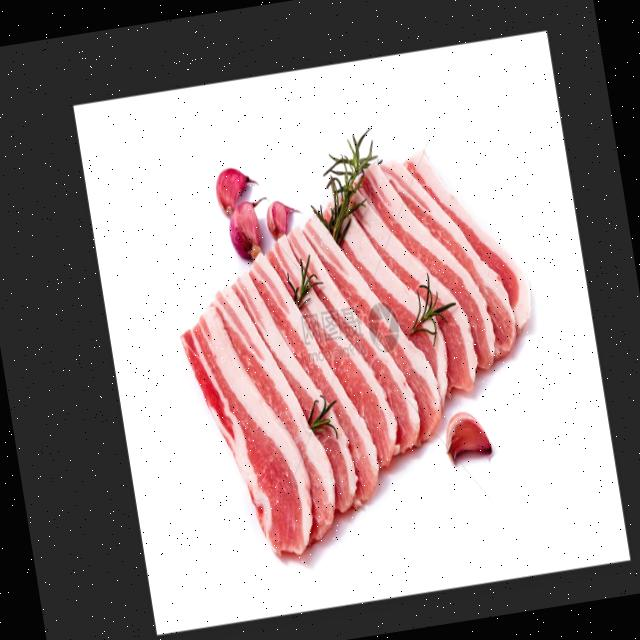meat: (165, 121, 558, 568)
